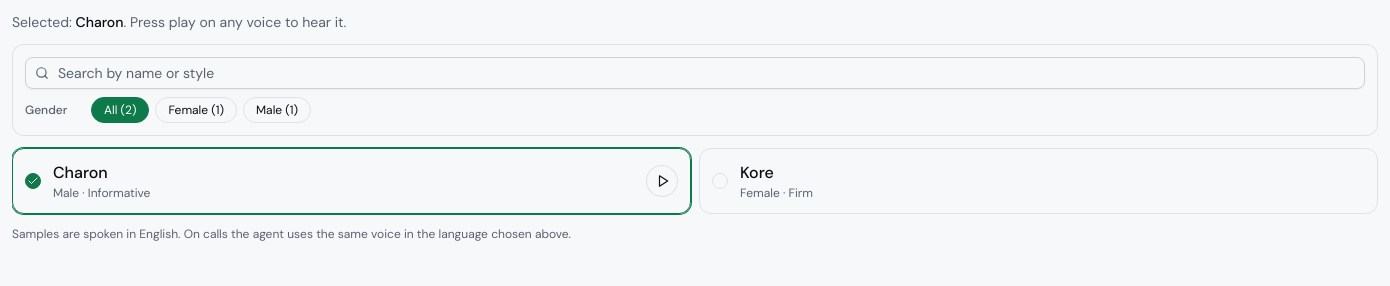
Scenario: GeminiLiveVoicePicker › filters by gender and keeps the selection visible in the summary
Expected: the text "Charon" next to "Selected:" is shown, 76,13 -> 123,31
Click the button "Female (1)".
click(196, 110)  # box 155,97 -> 237,123
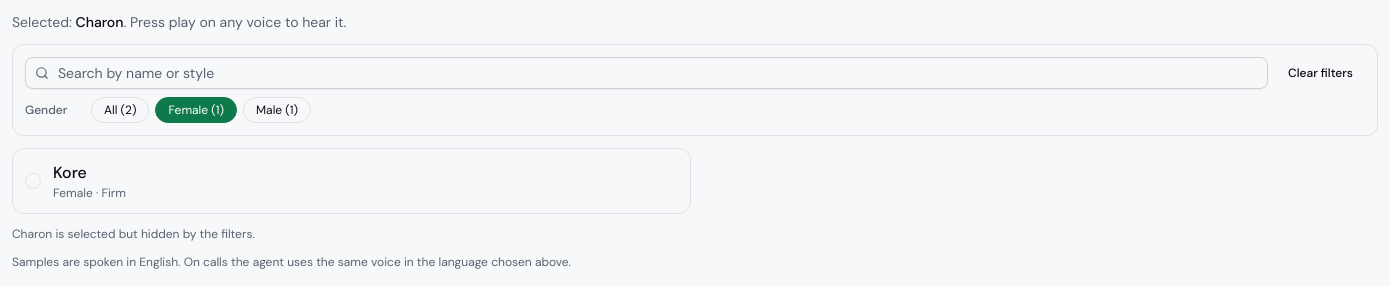
Expected: the radio button labelled "Kore Female · Firm" is shown, 13,149 -> 690,213
Result: the text "Charon is selected but hidden by the filters." is shown at 12,226 -> 255,242
Click the button "All (2)".
click(120, 110)  # box 91,97 -> 149,123
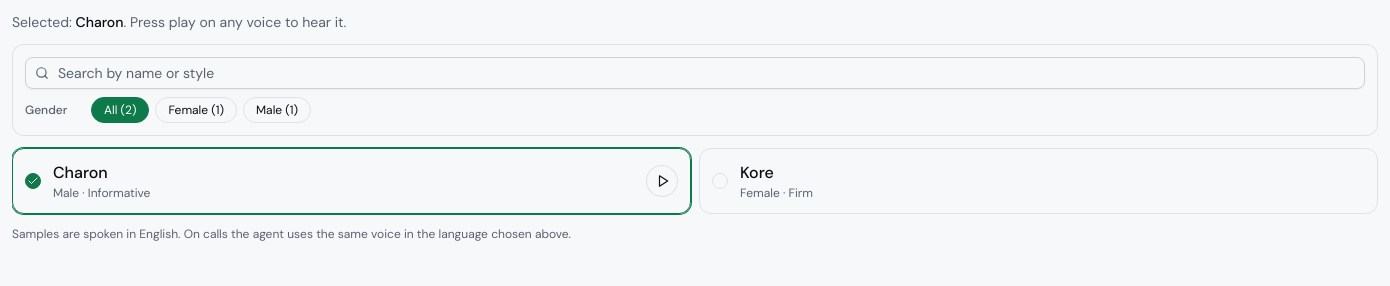
Result: the radio button labelled "Charon Male · Informative" is shown at 13,149 -> 690,213
